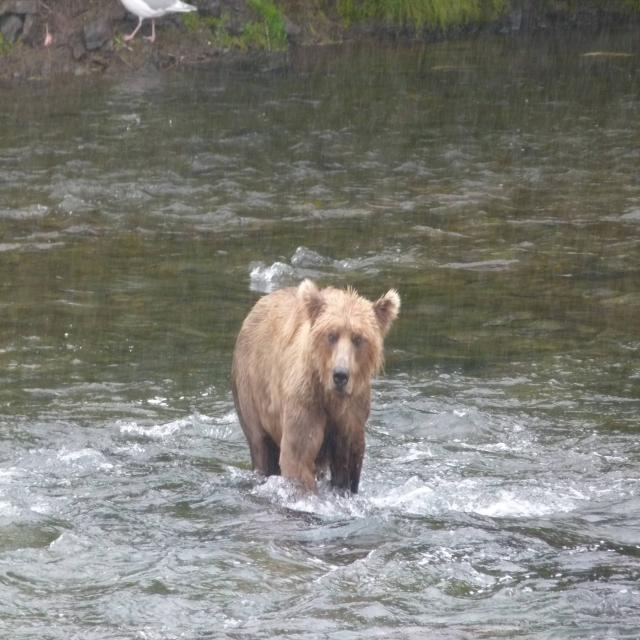bear face: (235, 279, 402, 493)
